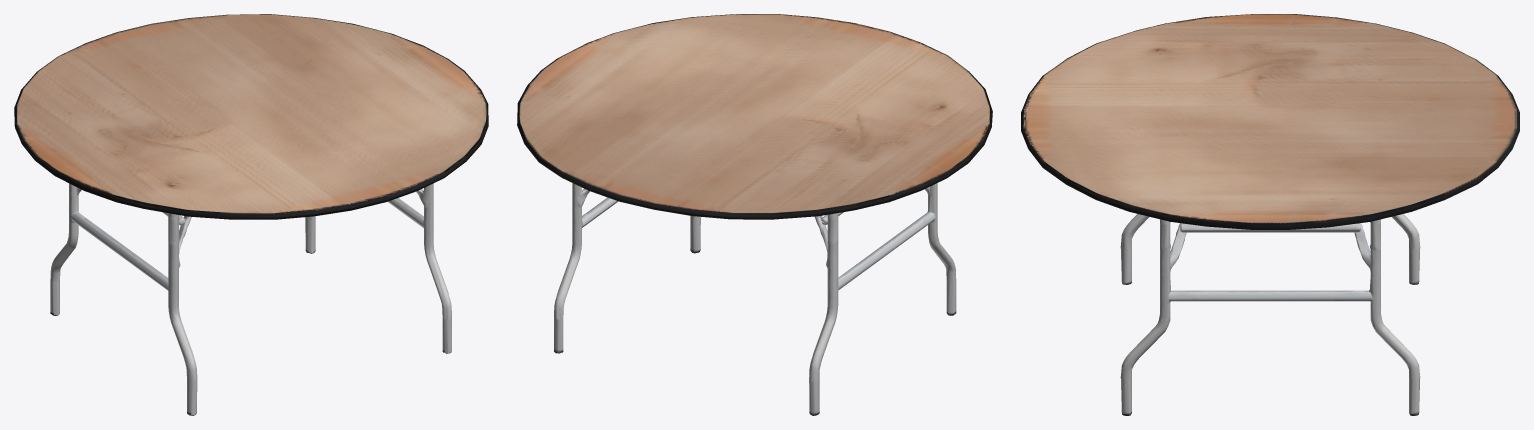
File: Round_Wood _Table_0630010432_texture.glb
The picture shows the model from 3 angles, left to right: view 1: azimuth 30°, elevation 25°; view 2: azimuth 150°, elevation 25°; view 3: azimuth 270°, elevation 25°; orthographic projection. The views are drawn at different scales.
Parts seen in each view (by area): view 1: Mesh_0.003; view 2: Mesh_0.003; view 3: Mesh_0.003.
Boxes of the visible parts, box(x1,y1,x2,y2) form: Mesh_0.003: box(14, 14, 488, 415); Mesh_0.003: box(517, 14, 992, 415); Mesh_0.003: box(1021, 14, 1519, 415).
Bounding box in the file's own units: 1.45 × 0.7366 × 1.45.
1 material, 1 textured.
